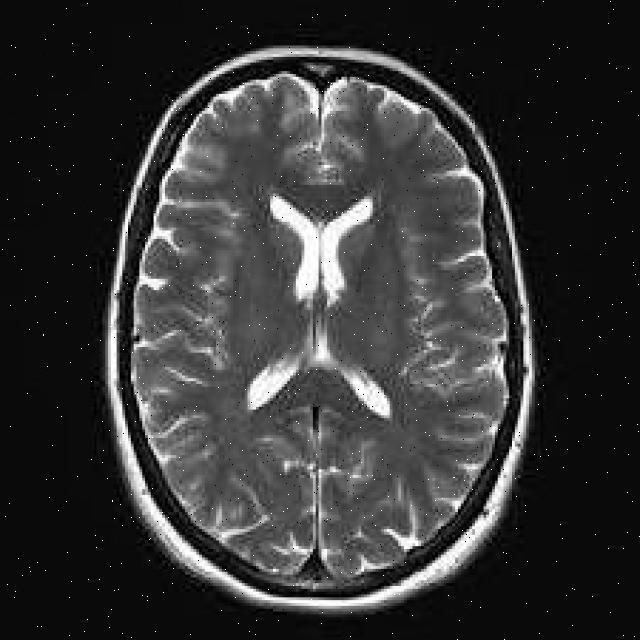No_Tumor: (106, 47, 534, 612)
